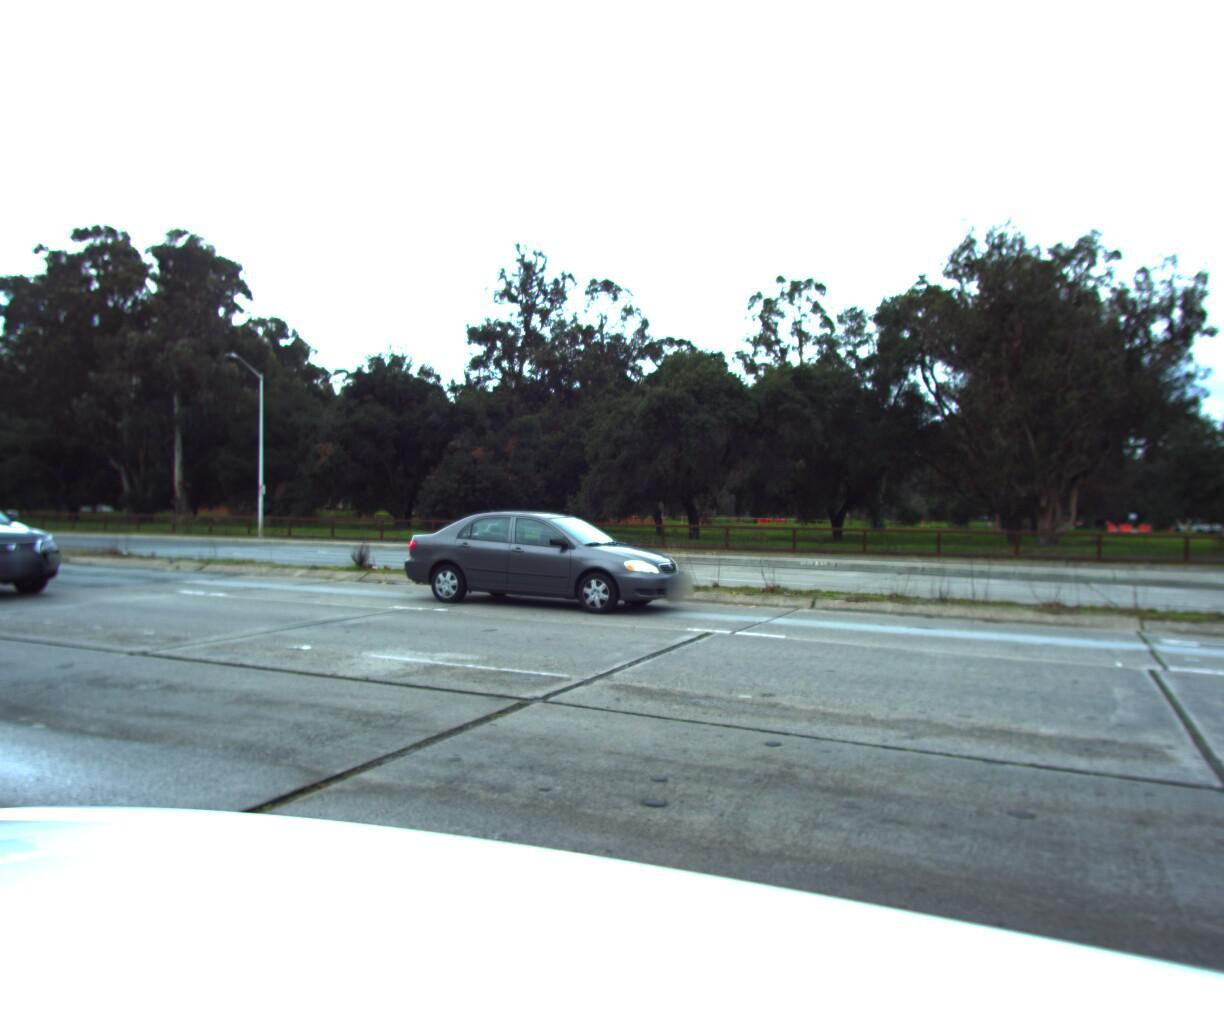car: (397, 497, 702, 617), (0, 476, 77, 603)
